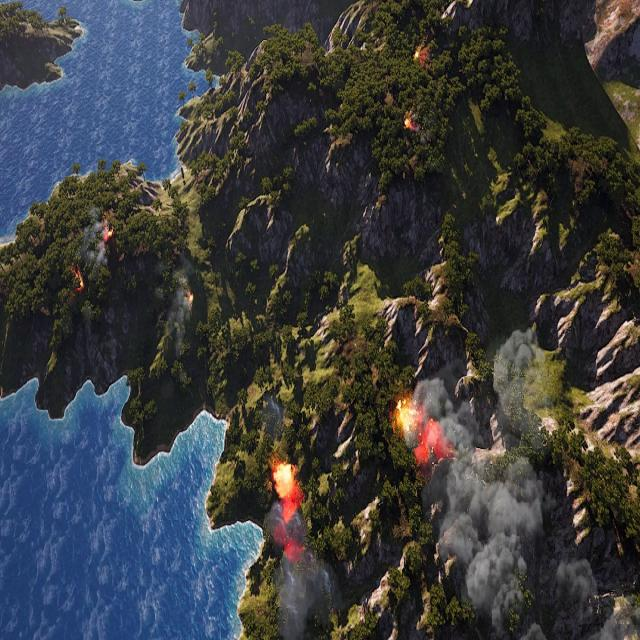fire: (395, 397, 444, 463), (271, 460, 300, 522), (404, 105, 418, 136), (101, 223, 117, 245), (414, 43, 429, 65), (73, 270, 85, 292), (189, 291, 195, 304)
smoke: (412, 322, 640, 640), (267, 451, 341, 639), (167, 264, 195, 339), (80, 204, 110, 267)
